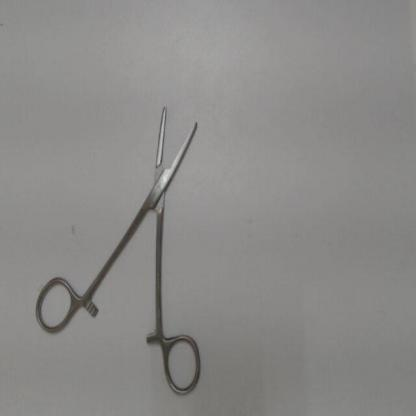Mayo Needle Holder: (27, 83, 222, 404)
